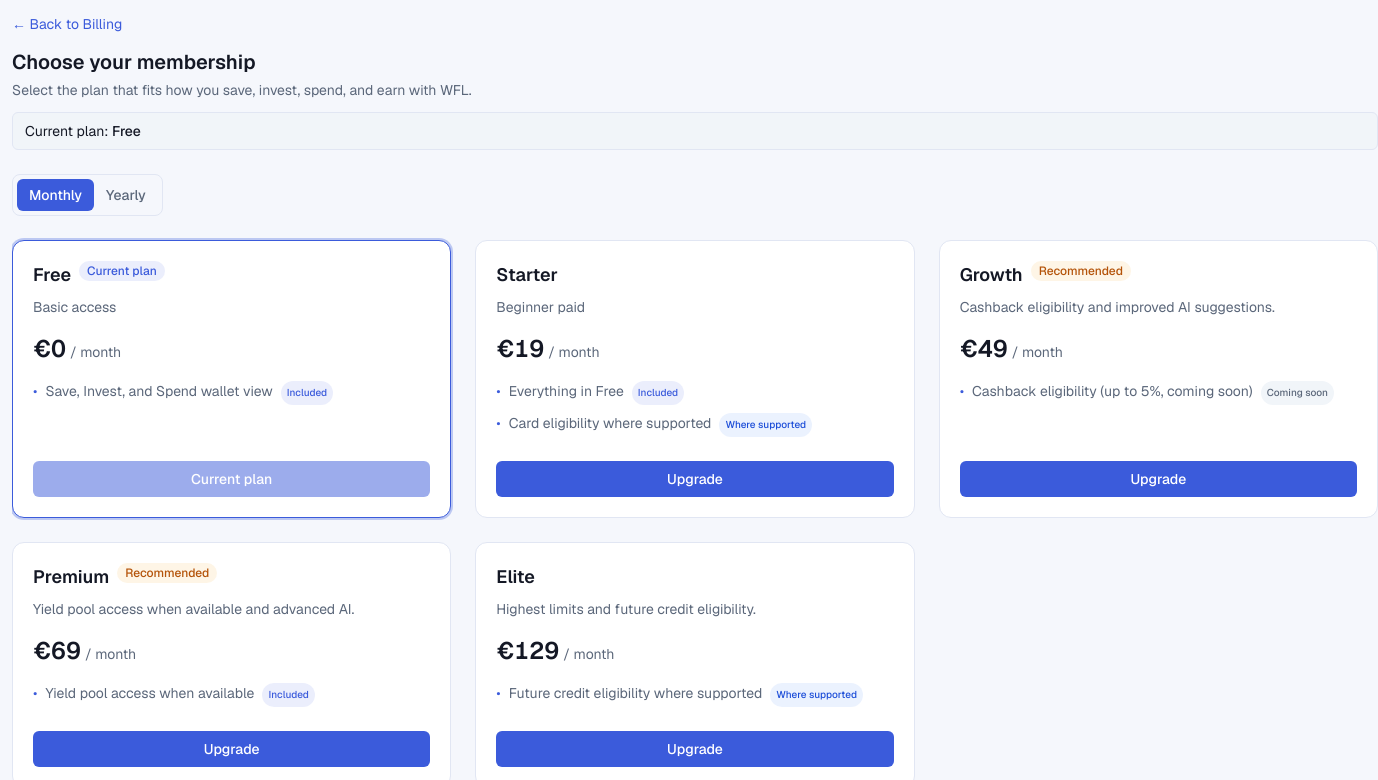
Scenario: UpgradePlansContent › shows friendly checkout error message
This screenshot has width=1378, height=780.
What coordinates should you click on to do the following:
click the button "Upgrade" below "Card eligibility where supported"
I would click on:
 (695, 479)
Its box is [496,461,894,497].
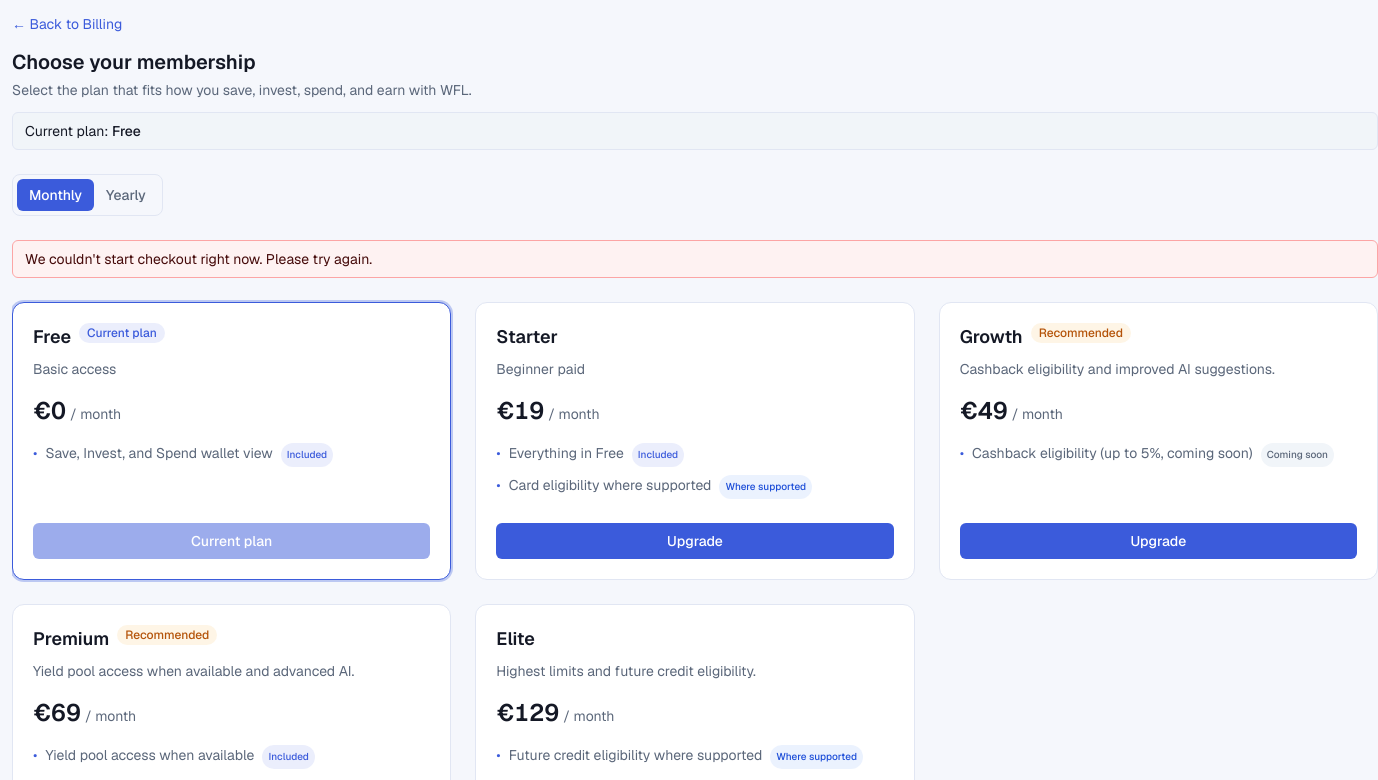
Expected: the text "We couldn't start checkout right now. Please try again." is shown, [12,240,1377,278]
